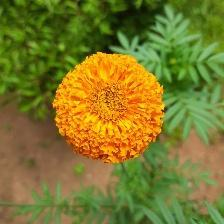marigold: (53, 50, 167, 165)
